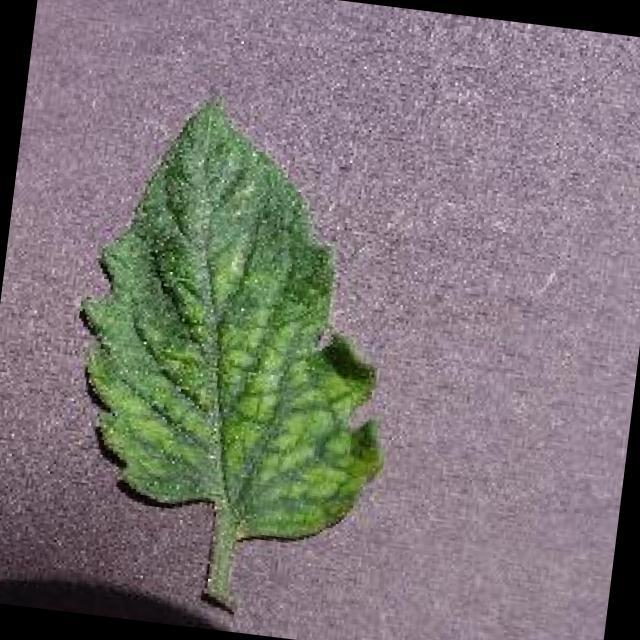Tomato mosaic virus leaf: (56, 68, 423, 554)
